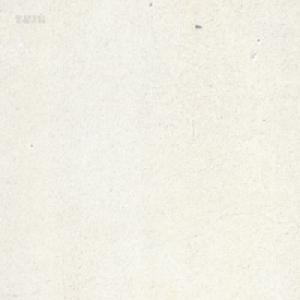Nail: (195, 23, 202, 28)
